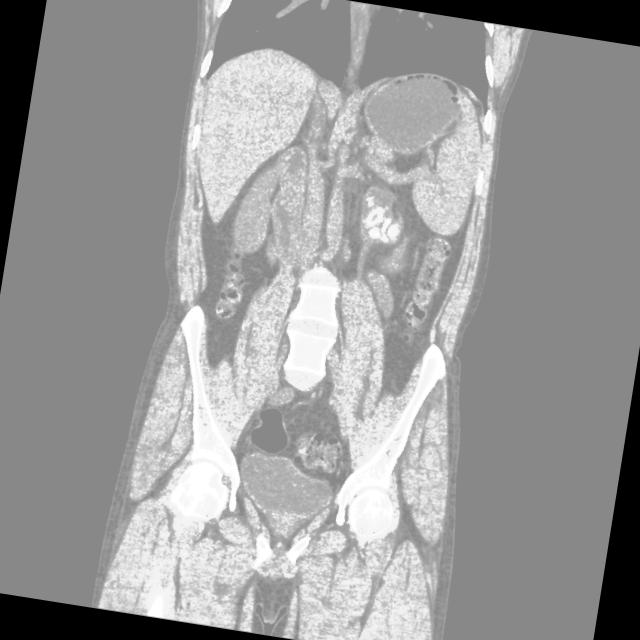STONE: (81, 113, 548, 562)
